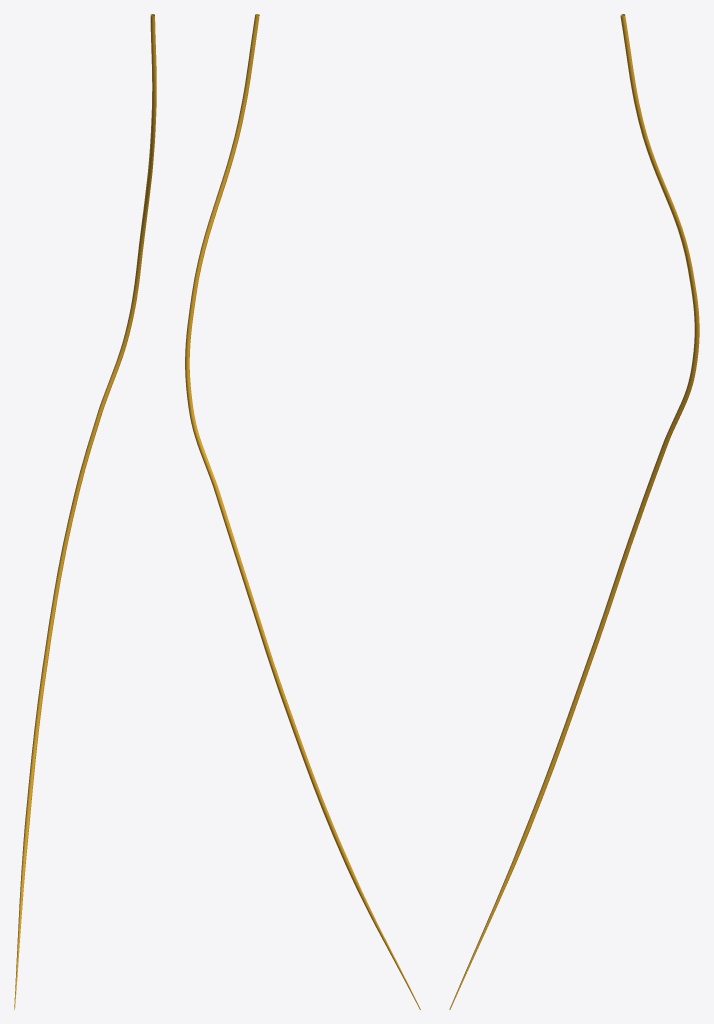
File: nervoso-posterior-branch-of-medial-antebrachial-cutaneous-nerve-r.glb
3 renders of one model, left to right at view 1: azimuth 30°, elevation 25°; view 2: azimuth 150°, elevation 25°; view 3: azimuth 330°, elevation 25°, orthographic. The views are drawn at different scales.
Visible parts, largest first — view 1: Posterior branch of medial antebrachial cutaneous nerve.r; view 2: Posterior branch of medial antebrachial cutaneous nerve.r; view 3: Posterior branch of medial antebrachial cutaneous nerve.r.
Part boxes in pixels (bbox=[...]): Posterior branch of medial antebrachial cutaneous nerve.r: bbox=[14, 14, 156, 1009]; Posterior branch of medial antebrachial cutaneous nerve.r: bbox=[185, 14, 420, 1009]; Posterior branch of medial antebrachial cutaneous nerve.r: bbox=[449, 14, 699, 1009].
Bounding box in the file's own units: 0.0445 × 0.2268 × 0.0256.
